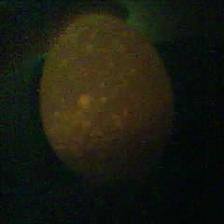fertile: (39, 12, 174, 188)
